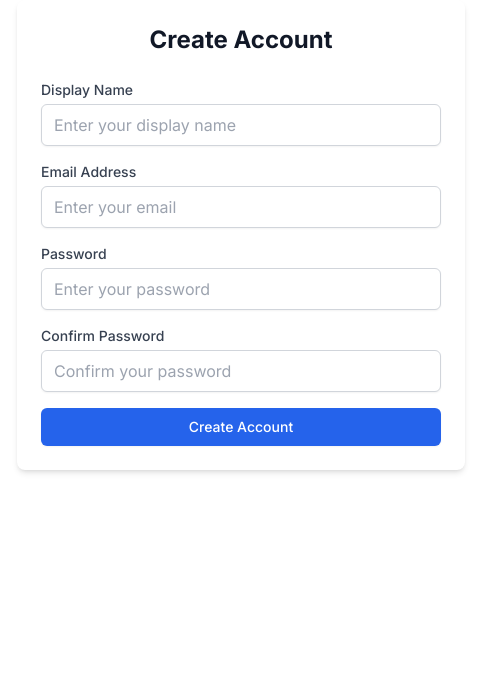
RegisterForm › should display success message on successful registration
This screenshot has width=483, height=675.
Type "Test User" into the field labelled "Display Name".
click(241, 125); type("Test User")  # box x1=41 y1=104 x2=441 y2=146
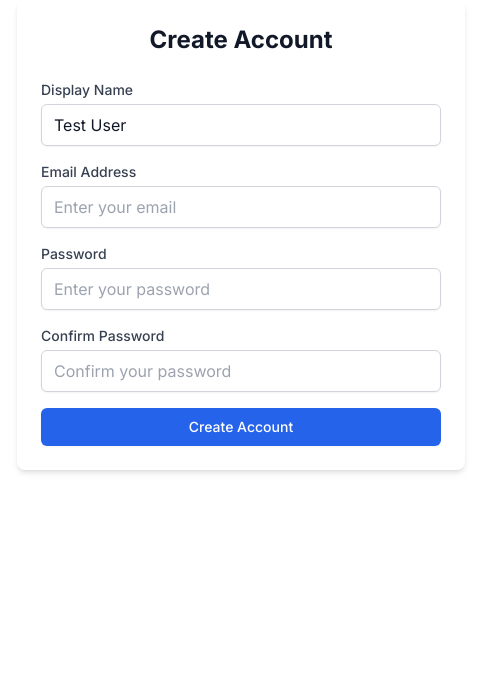
Type "test@example.com" into the field labelled "Email Address".
click(241, 207); type("test@example.com")  # box x1=41 y1=186 x2=441 y2=228
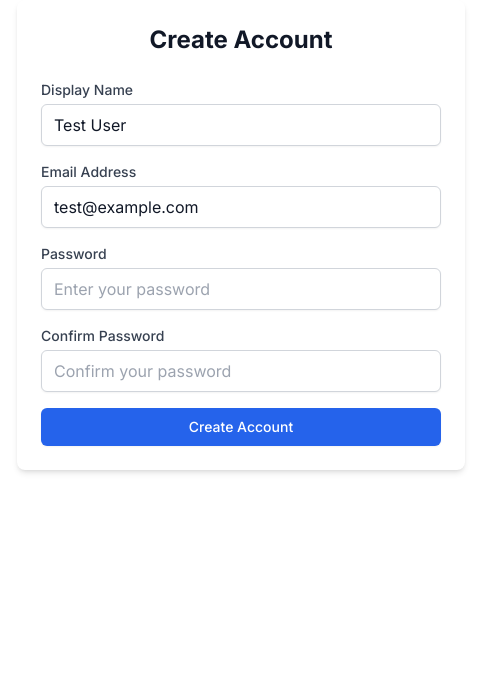
Type "password123" into the password field labelled "Password".
click(241, 289); type("password123")  # box x1=41 y1=268 x2=441 y2=310
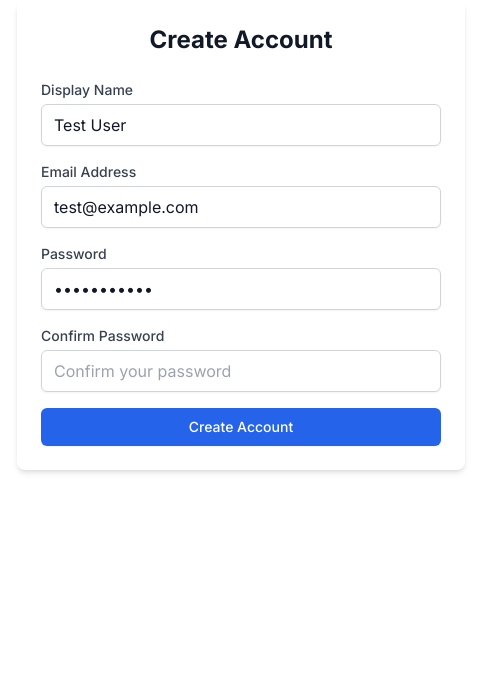
Type "password123" into the password field labelled "Confirm Password".
click(241, 371); type("password123")  # box x1=41 y1=350 x2=441 y2=392
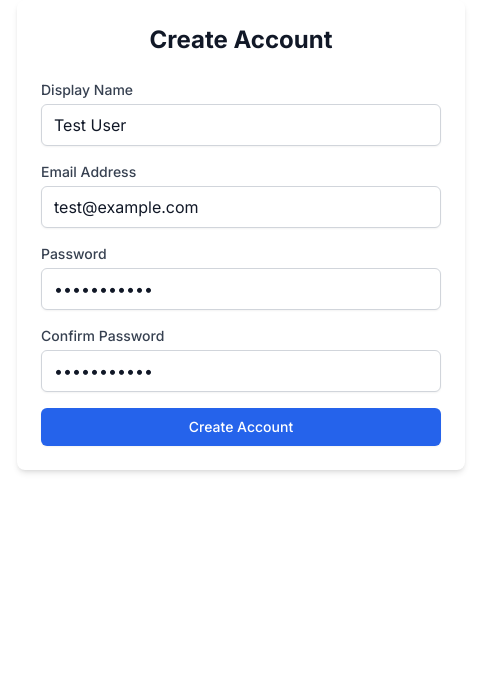
Click the button "Create Account".
click(241, 427)  # box x1=41 y1=408 x2=441 y2=446
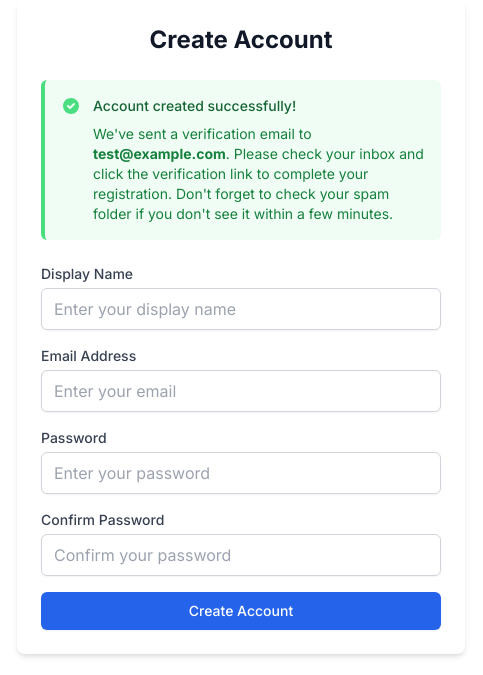
expect the heading "Account created successfully!" is shown: met, box x1=93 y1=97 x2=296 y2=114
